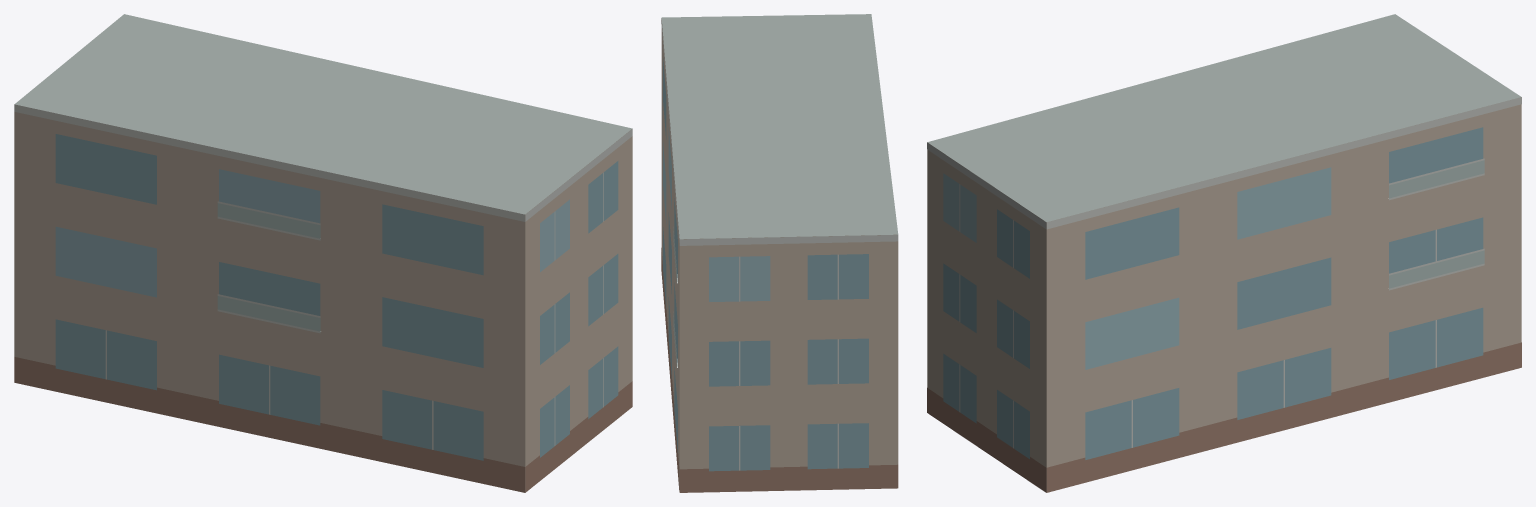
Rendered from survey-upis-32794832.glb.
3 views of the same model, side by side, from view 1: azimuth 30°, elevation 25°; view 2: azimuth 150°, elevation 25°; view 3: azimuth 270°, elevation 25° (orthographic). The views are drawn at different scales.
Visible parts, largest first — view 1: survey-upis-32794832.tmp; view 2: survey-upis-32794832.tmp; view 3: survey-upis-32794832.tmp.
Part boxes in pixels (left/top/right/bottom): survey-upis-32794832.tmp: left=14, top=14, right=632, bottom=492; survey-upis-32794832.tmp: left=661, top=14, right=898, bottom=492; survey-upis-32794832.tmp: left=927, top=14, right=1521, bottom=492.
Size of the model in its own units: 15.11 by 9.15 by 18.23.
